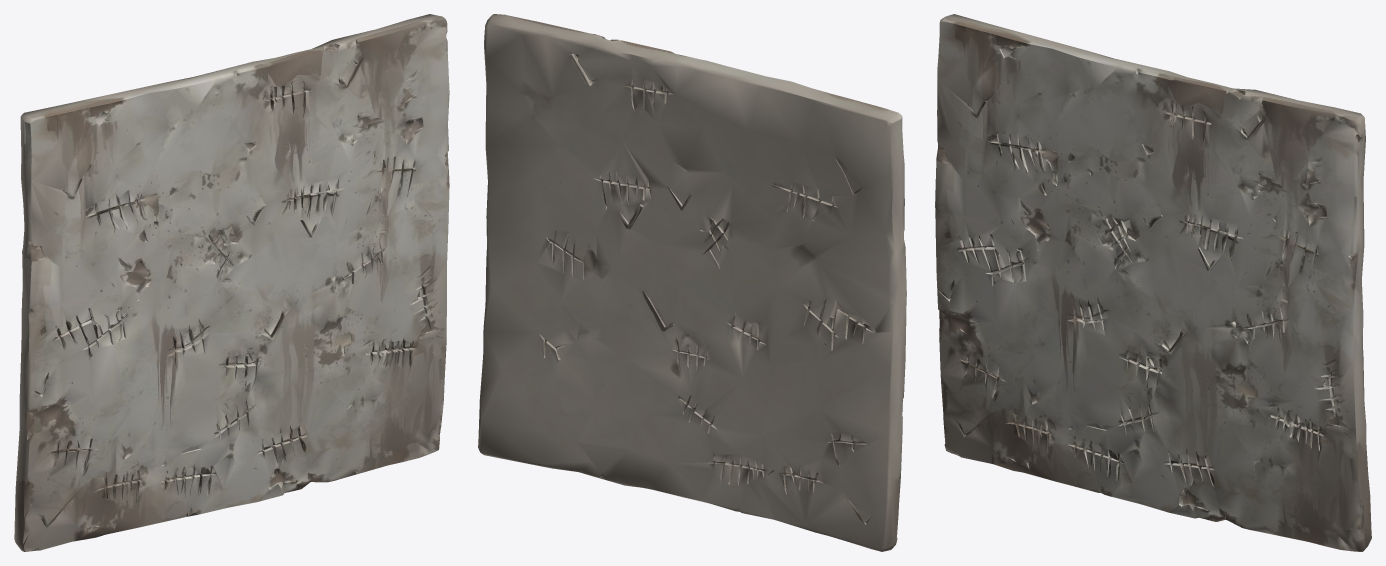
The model's file is finish_plaster_damaged_idle.glb.
The picture shows the model from 3 angles, left to right: view 1: azimuth 30°, elevation 25°; view 2: azimuth 150°, elevation 25°; view 3: azimuth 330°, elevation 25°; orthographic projection.
Visible parts, largest first — view 1: tripo_node_d26562c6-a48f-401c-98a5-8c17e1f441aa; view 2: tripo_node_d26562c6-a48f-401c-98a5-8c17e1f441aa; view 3: tripo_node_d26562c6-a48f-401c-98a5-8c17e1f441aa.
Boxes of the visible parts, box(x1,y1,x2,y2) form: tripo_node_d26562c6-a48f-401c-98a5-8c17e1f441aa: box(14, 14, 449, 551); tripo_node_d26562c6-a48f-401c-98a5-8c17e1f441aa: box(478, 14, 906, 551); tripo_node_d26562c6-a48f-401c-98a5-8c17e1f441aa: box(935, 14, 1371, 551).
Size of the model in its own units: 0.9999 by 1 by 0.1002.
Materials: 1 (1 with a texture image).
